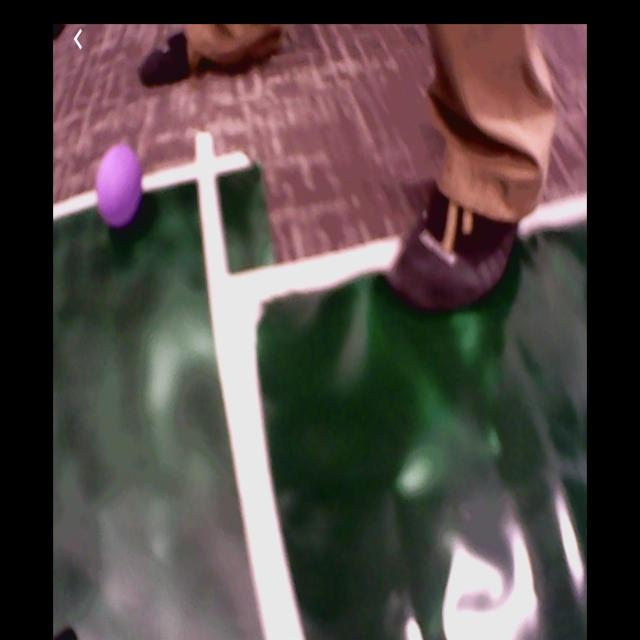ball: (96, 144, 142, 228)
